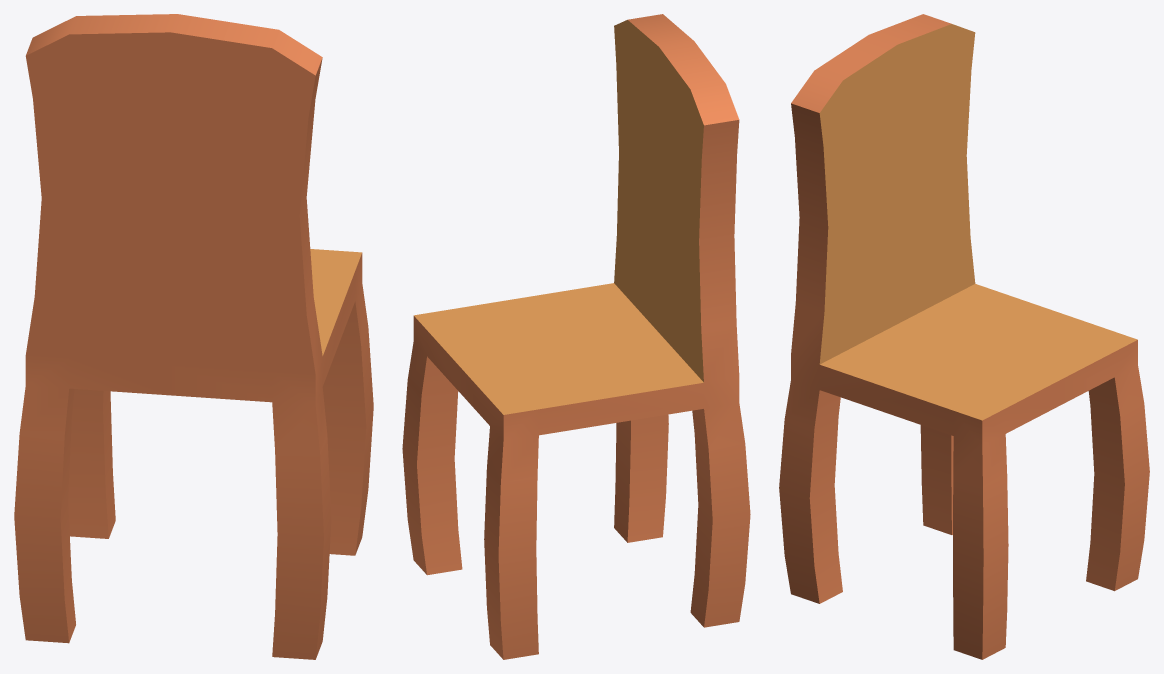
The model's file is Chair.fbx.
The picture shows the model from 3 angles, left to right: view 1: azimuth 30°, elevation 25°; view 2: azimuth 150°, elevation 25°; view 3: azimuth 270°, elevation 25°; orthographic projection. The views are drawn at different scales.
Visible parts, largest first — view 1: Chair; view 2: Chair; view 3: Chair.
Boxes of the visible parts, x1,y1,x2,y2 form: Chair: [14, 14, 373, 659]; Chair: [402, 14, 750, 659]; Chair: [779, 14, 1149, 659].
Size of the model in its own units: 0.0329 by 0.0507 by 0.0329.
1 material, 1 textured.
